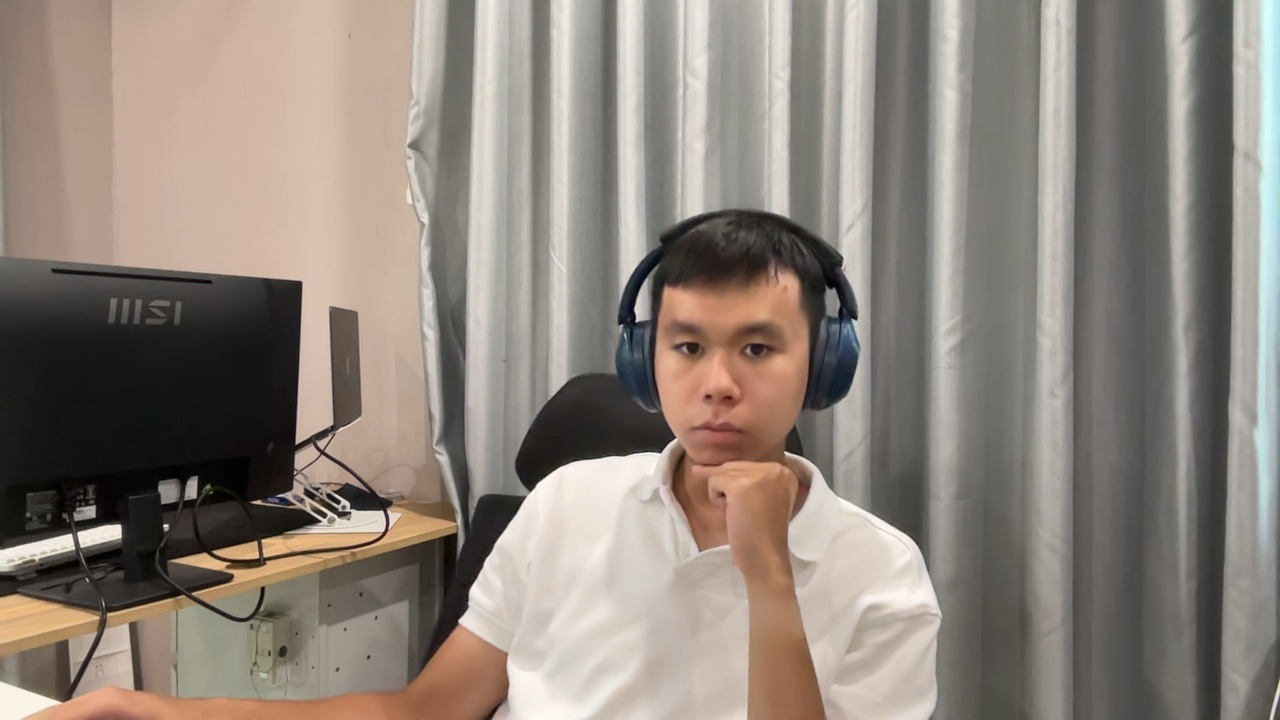over_ear: (612, 209, 862, 420), (613, 232, 692, 420)
